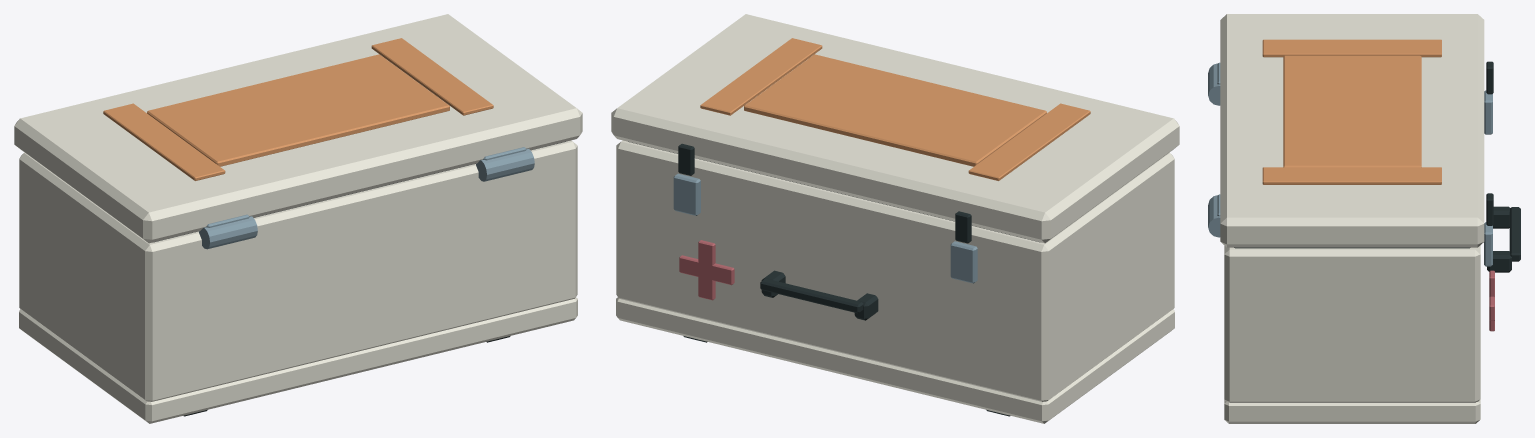
Rendered from lifesaving_deck_box.glb.
3 views of the same model, side by side, from view 1: azimuth 30°, elevation 25°; view 2: azimuth 150°, elevation 25°; view 3: azimuth 270°, elevation 25° (orthographic). The views are drawn at different scales.
Parts seen in each view (by area): view 1: body_back_wall, moving_lid, body_side_wall (×2), moving_lid_identity, body_floor, moving_deck_stripe (×2), body_hinge (×2), body_front_wall; view 2: body_front_wall, moving_lid, body_side_wall (×2), moving_lid_identity, body_floor, moving_deck_stripe (×2), latch_base (×2), front_carry_grip, deck_rescue_vertical, deck_rescue_horizontal; view 3: moving_lid, body_side_wall, moving_lid_identity, moving_deck_stripe (×2), body_floor, body_front_wall, body_back_wall, body_hinge (×2), front_carry_mount (×2), latch_base (×2), front_carry_grip, rim_seal.
Boxes of the visible parts, bbox=[...] form: body_back_wall: bbox=[137, 140, 575, 401]; moving_lid: bbox=[14, 14, 582, 243]; body_side_wall (×2): bbox=[19, 141, 577, 401]; moving_lid_identity: bbox=[147, 54, 449, 166]; body_floor: bbox=[19, 297, 577, 423]; moving_deck_stripe (×2): bbox=[103, 38, 493, 180]; body_hinge (×2): bbox=[199, 148, 534, 249]; body_front_wall: bbox=[19, 152, 32, 312]; body_front_wall: bbox=[618, 140, 1057, 399]; moving_lid: bbox=[611, 14, 1179, 243]; body_side_wall (×2): bbox=[616, 141, 1174, 401]; moving_lid_identity: bbox=[744, 54, 1046, 166]; body_floor: bbox=[616, 297, 1174, 423]; moving_deck_stripe (×2): bbox=[700, 38, 1090, 180]; latch_base (×2): bbox=[673, 173, 977, 283]; front_carry_grip: bbox=[760, 278, 863, 313]; deck_rescue_vertical: bbox=[698, 240, 715, 300]; deck_rescue_horizontal: bbox=[679, 255, 734, 285]; moving_lid: bbox=[1220, 14, 1484, 247]; body_side_wall: bbox=[1224, 247, 1480, 402]; moving_lid_identity: bbox=[1283, 55, 1421, 167]; moving_deck_stripe (×2): bbox=[1262, 39, 1441, 184]; body_floor: bbox=[1224, 399, 1480, 423]; body_front_wall: bbox=[1459, 245, 1480, 402]; body_back_wall: bbox=[1224, 245, 1245, 402]; body_hinge (×2): bbox=[1208, 63, 1220, 237]; front_carry_mount (×2): bbox=[1487, 206, 1511, 272]; latch_base (×2): bbox=[1484, 90, 1492, 266]; front_carry_grip: bbox=[1509, 207, 1520, 261]; rim_seal: bbox=[1234, 247, 1470, 248].
Size of the model in its own units: 1.57 by 0.7945 by 0.9885.
